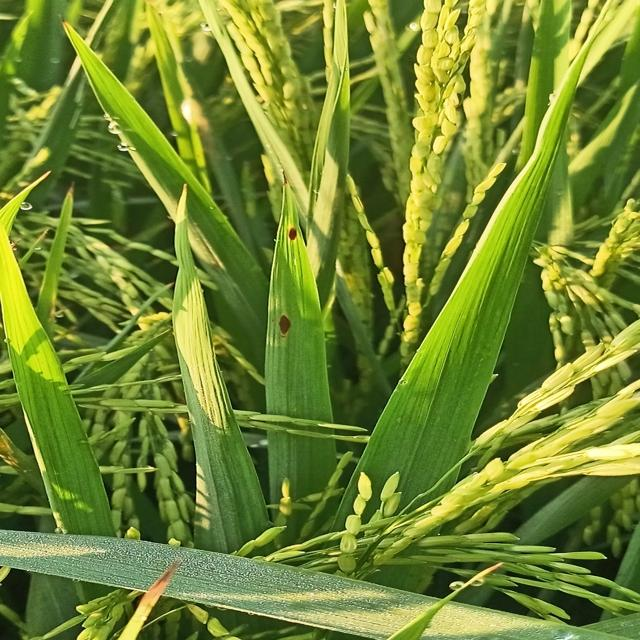insects: (272, 307, 294, 339), (277, 159, 295, 192), (284, 224, 302, 242)
